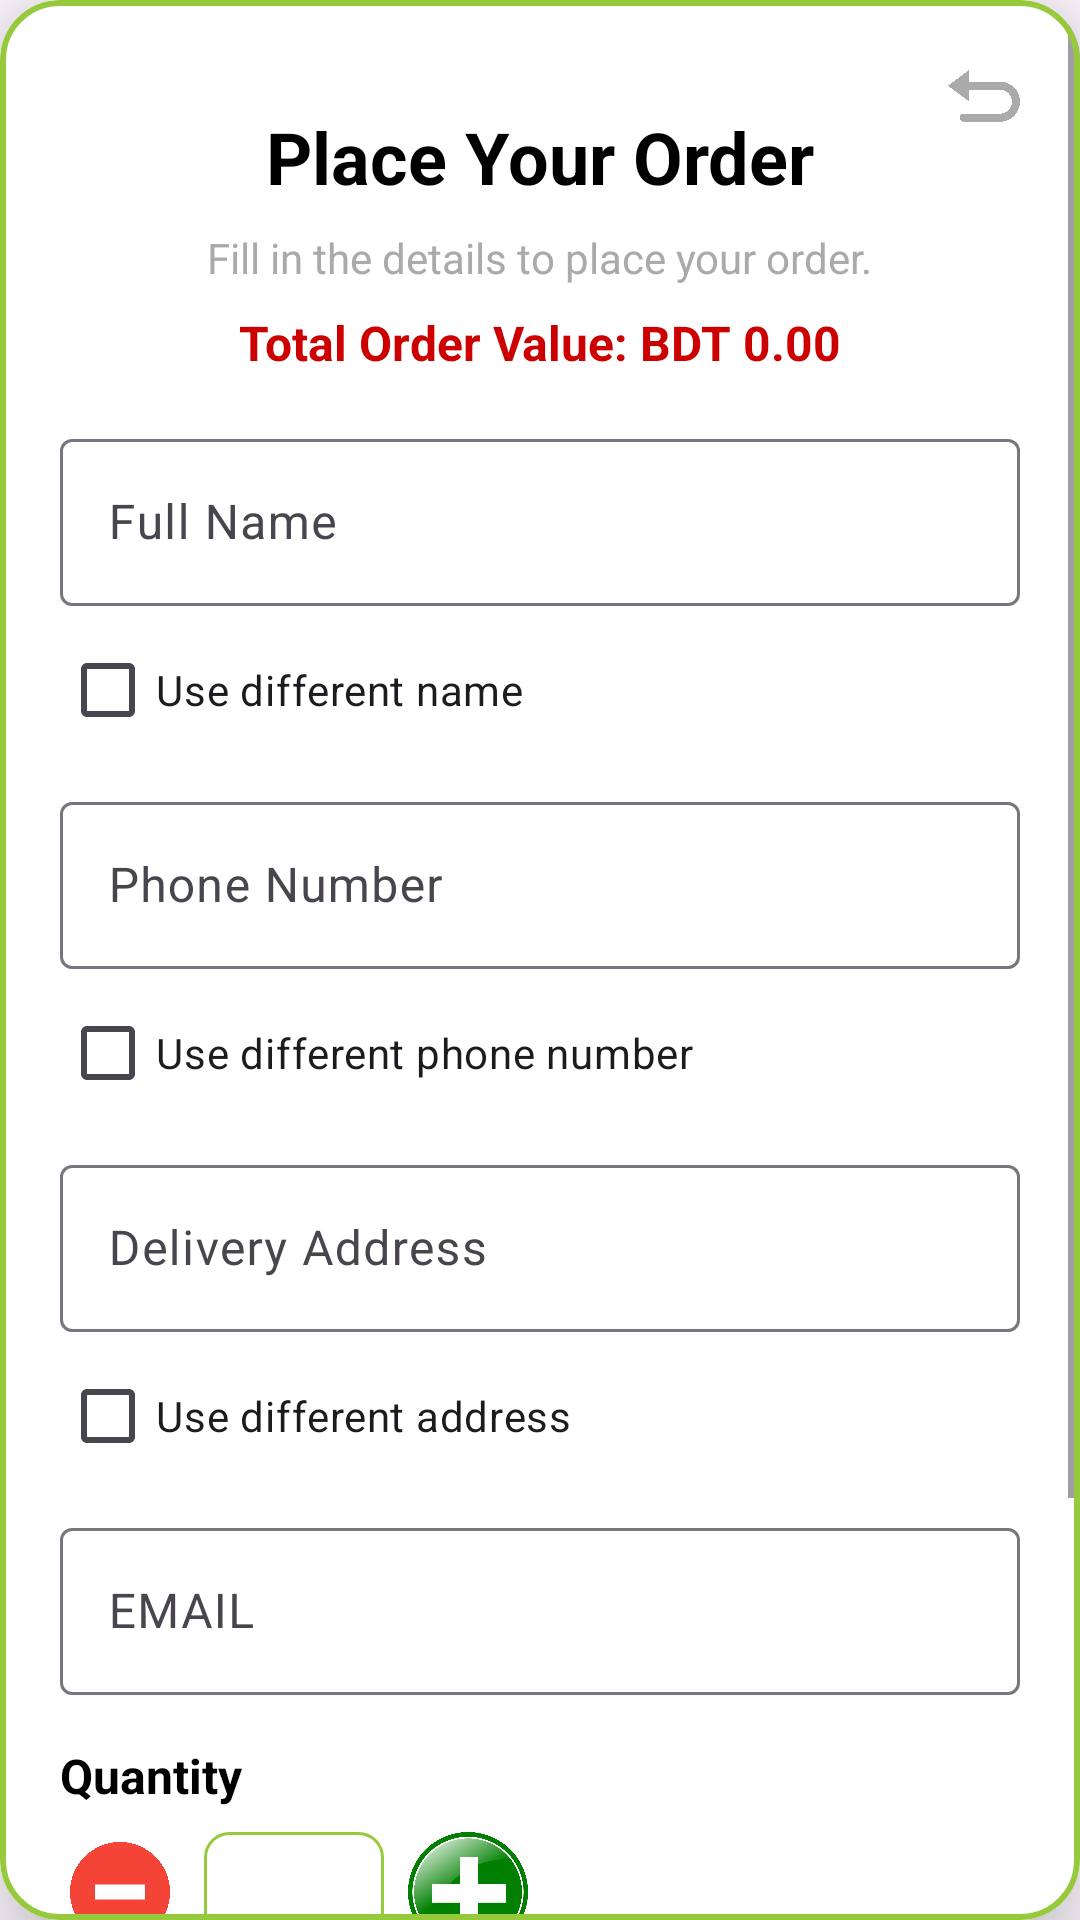

Named icons in this screenshot (1080px x 1920px) and their bounding boxes, Rect(x1, y1, x2, y2):
Close Dialog: Rect(948, 70, 1020, 122)
